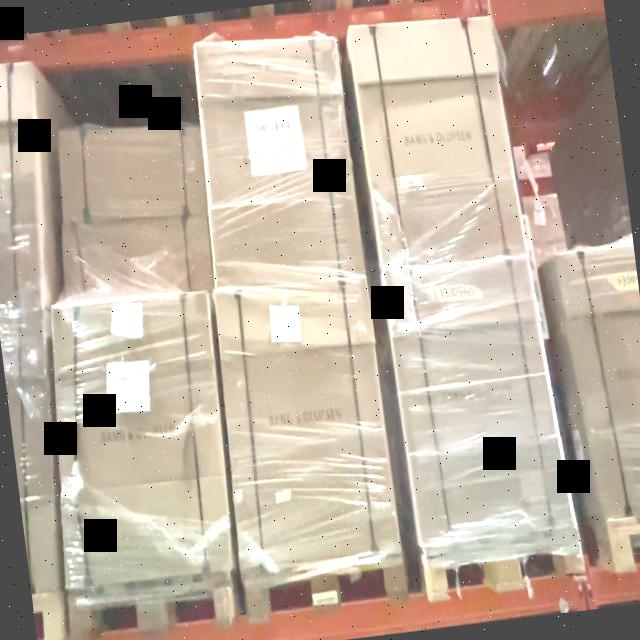box: (208, 270, 402, 570), (382, 254, 574, 539), (49, 291, 229, 589), (349, 12, 529, 269), (192, 36, 365, 290)
